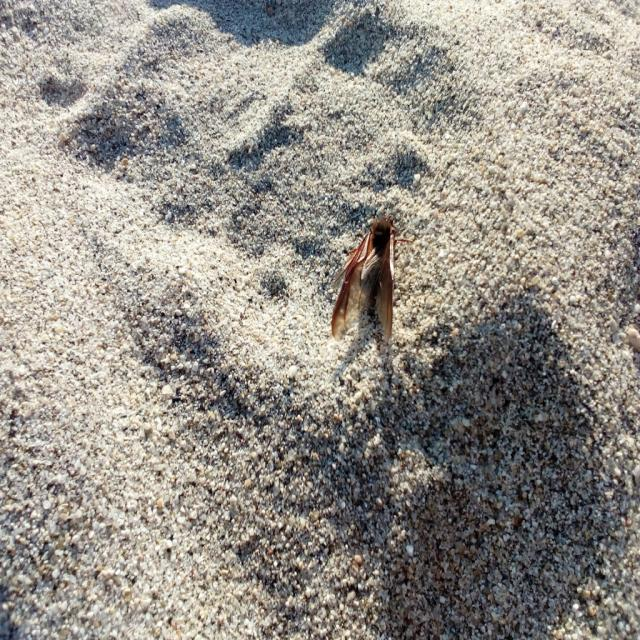Alive-Female-Alate: (331, 201, 413, 344)
